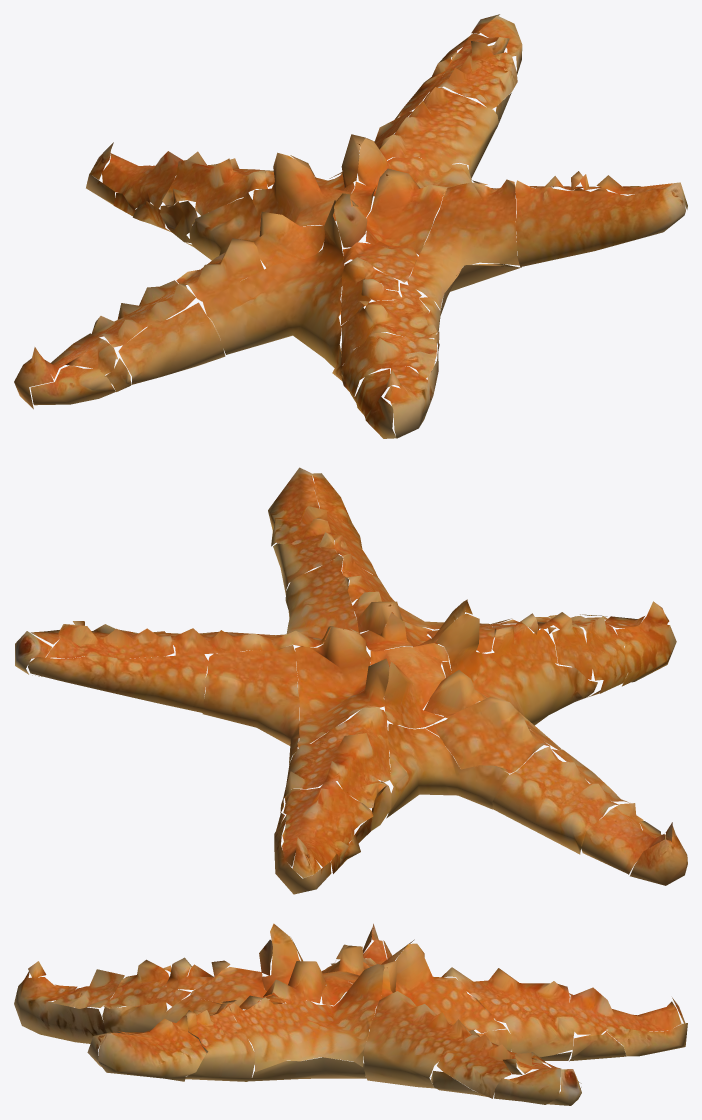
File: star_small.glb
The picture shows the model from 3 angles, top to bottom: view 1: azimuth 30°, elevation 25°; view 2: azimuth 150°, elevation 25°; view 3: azimuth 270°, elevation 25°; orthographic projection.
Visible parts, largest first — view 1: tripo_node_38a1ed8b-987e-41f9-9a17-ec3a162c4eb3; view 2: tripo_node_38a1ed8b-987e-41f9-9a17-ec3a162c4eb3; view 3: tripo_node_38a1ed8b-987e-41f9-9a17-ec3a162c4eb3.
Part boxes in pixels (<box>): tripo_node_38a1ed8b-987e-41f9-9a17-ec3a162c4eb3: <box>14,14,687,438</box>; tripo_node_38a1ed8b-987e-41f9-9a17-ec3a162c4eb3: <box>15,467,687,894</box>; tripo_node_38a1ed8b-987e-41f9-9a17-ec3a162c4eb3: <box>14,923,687,1105</box>.
Size of the model in its own units: 1 by 0.32 by 0.9985.
Materials: 1 (1 with a texture image).
